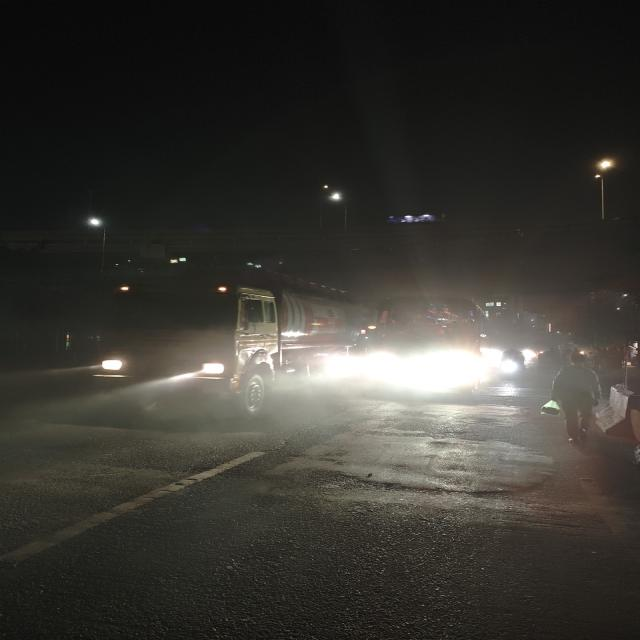bus: (349, 289, 486, 403)
pedestrian: (545, 351, 602, 446)
truck: (89, 286, 350, 420)
